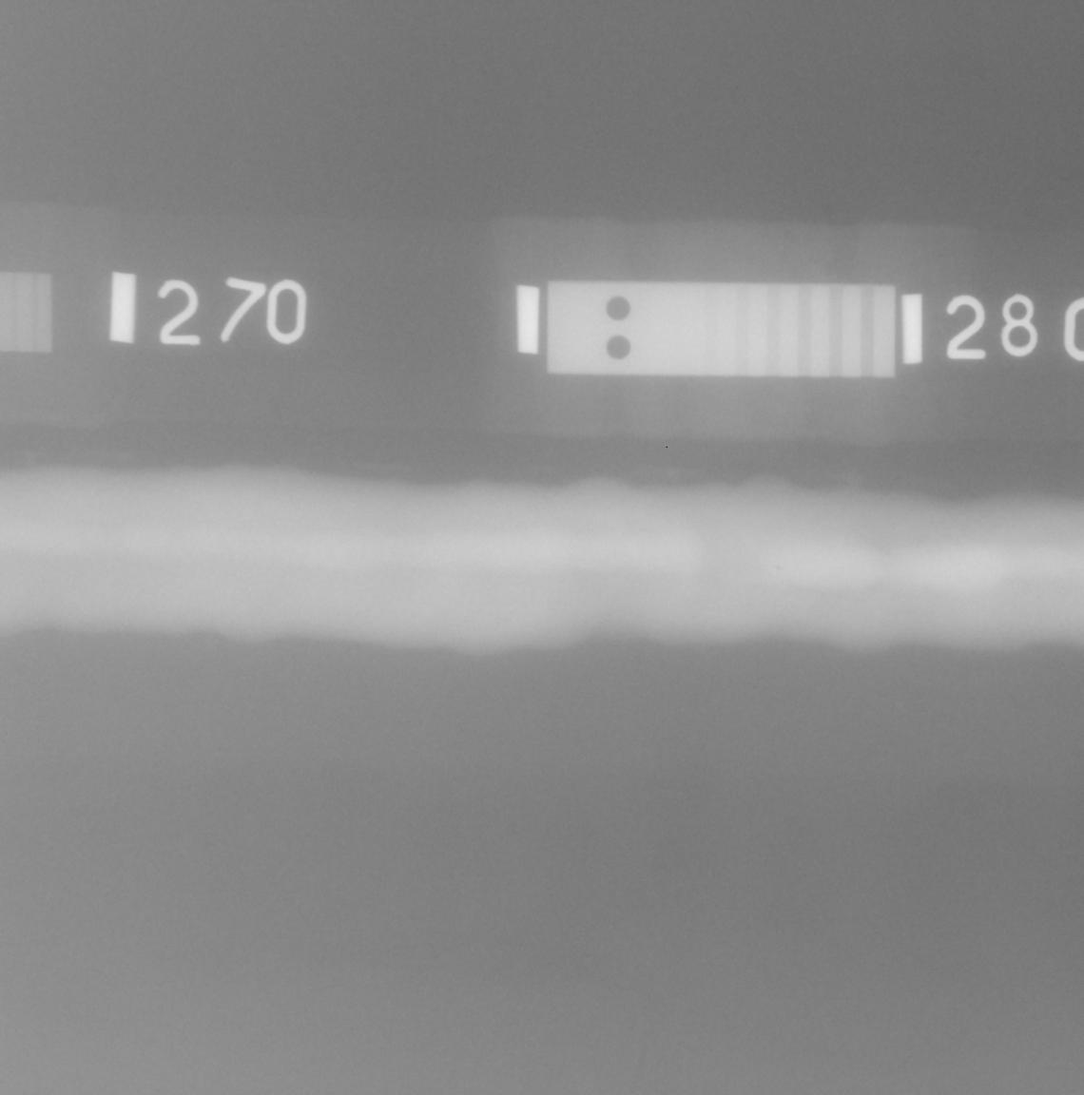Pore/Porosity: (776, 565, 780, 570)
Reference Standard 2: (546, 282, 896, 378)
